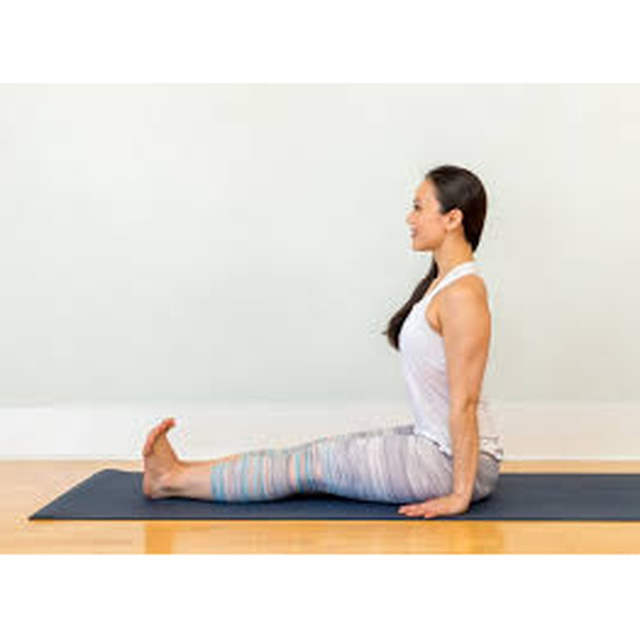Staff_Pose: (140, 164, 506, 521)
